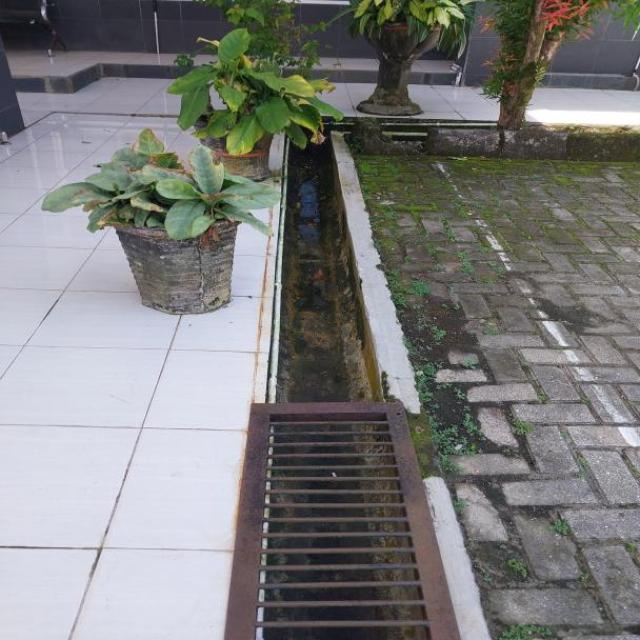plant ahead at: (48, 139, 268, 310), (167, 34, 327, 179)
